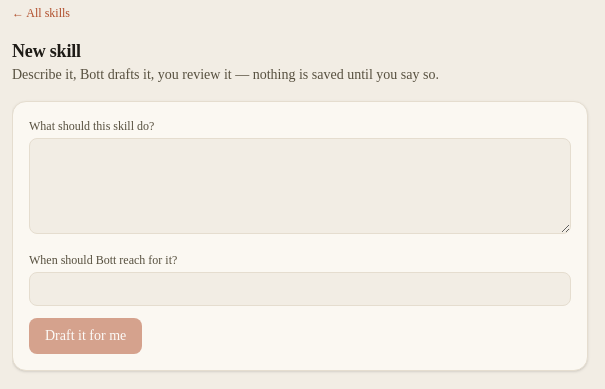
Test: SkillWizard › keeps 'Draft it for me' disabled until both fields are filled
Expected: the button "Draft it for me" is disabled, 29,318 -> 142,354
Type "Nudge stale PRs" into the text box labelled "What should this skill do?" at (300, 186), box 29,138 -> 571,234
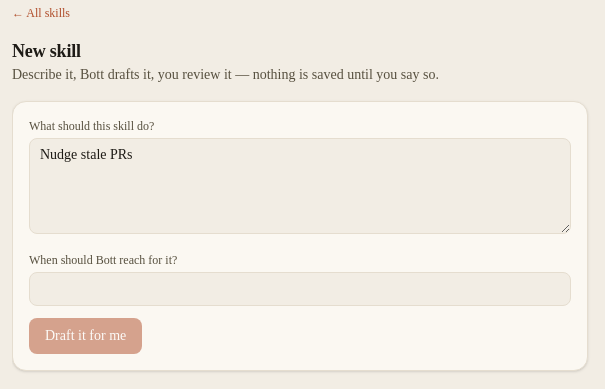
Expected: the button "Draft it for me" is disabled, 29,318 -> 142,354
Type "someone asks about stale PRs" into the field labelled "When should Bott reach for it?" at (300, 289), box 29,272 -> 571,306
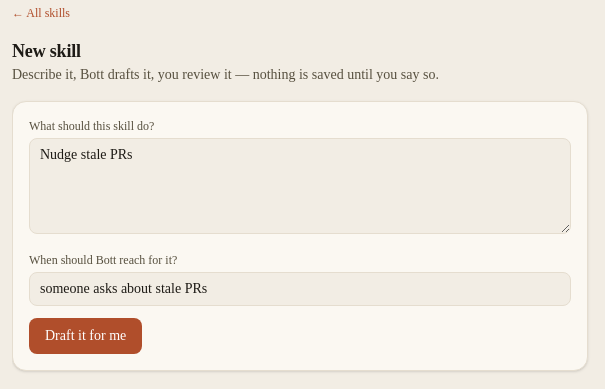
Now the button "Draft it for me" is enabled, box 29,318 -> 142,354
